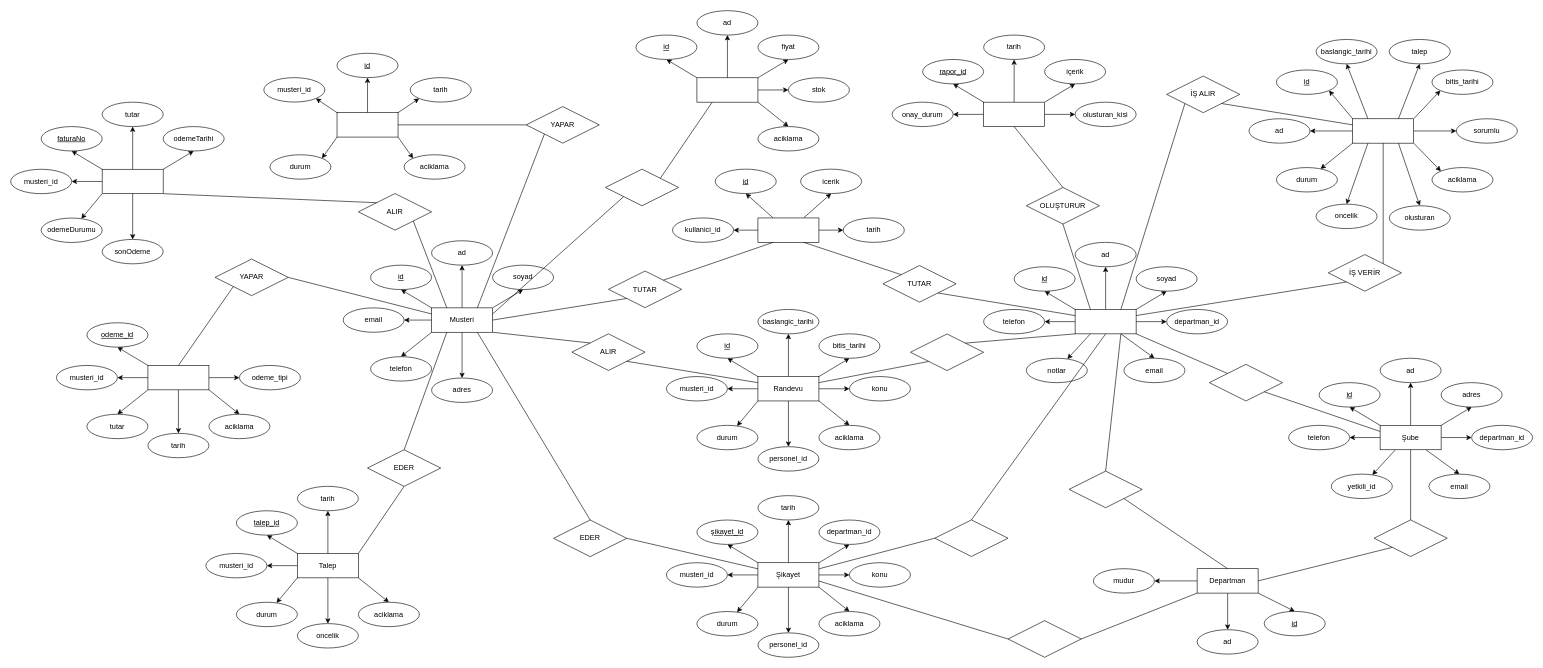
Image size: 1543x668. Some labels were removed from this diagram. Here are the shapes that lost their labels. From the top down, the centre of each, then its label:
the point at 727,89: Ürün
the point at 367,124: Geri Bildirim
the point at 1014,114: Rapor
the point at 1383,130: Görev
the point at 132,181: Fatura
the point at 642,187: İNCELER
the point at 788,229: Not
the point at 1105,321: Personel
the point at 947,352: VERİR
the point at 178,377: Ödeme
the point at 1246,382: OLUR
the point at 1105,489: ÇALIŞIR
the point at 971,538: KAYIT EDER
the point at 1410,538: KAYITLIDIR
the point at 1044,638: AİTTİR
